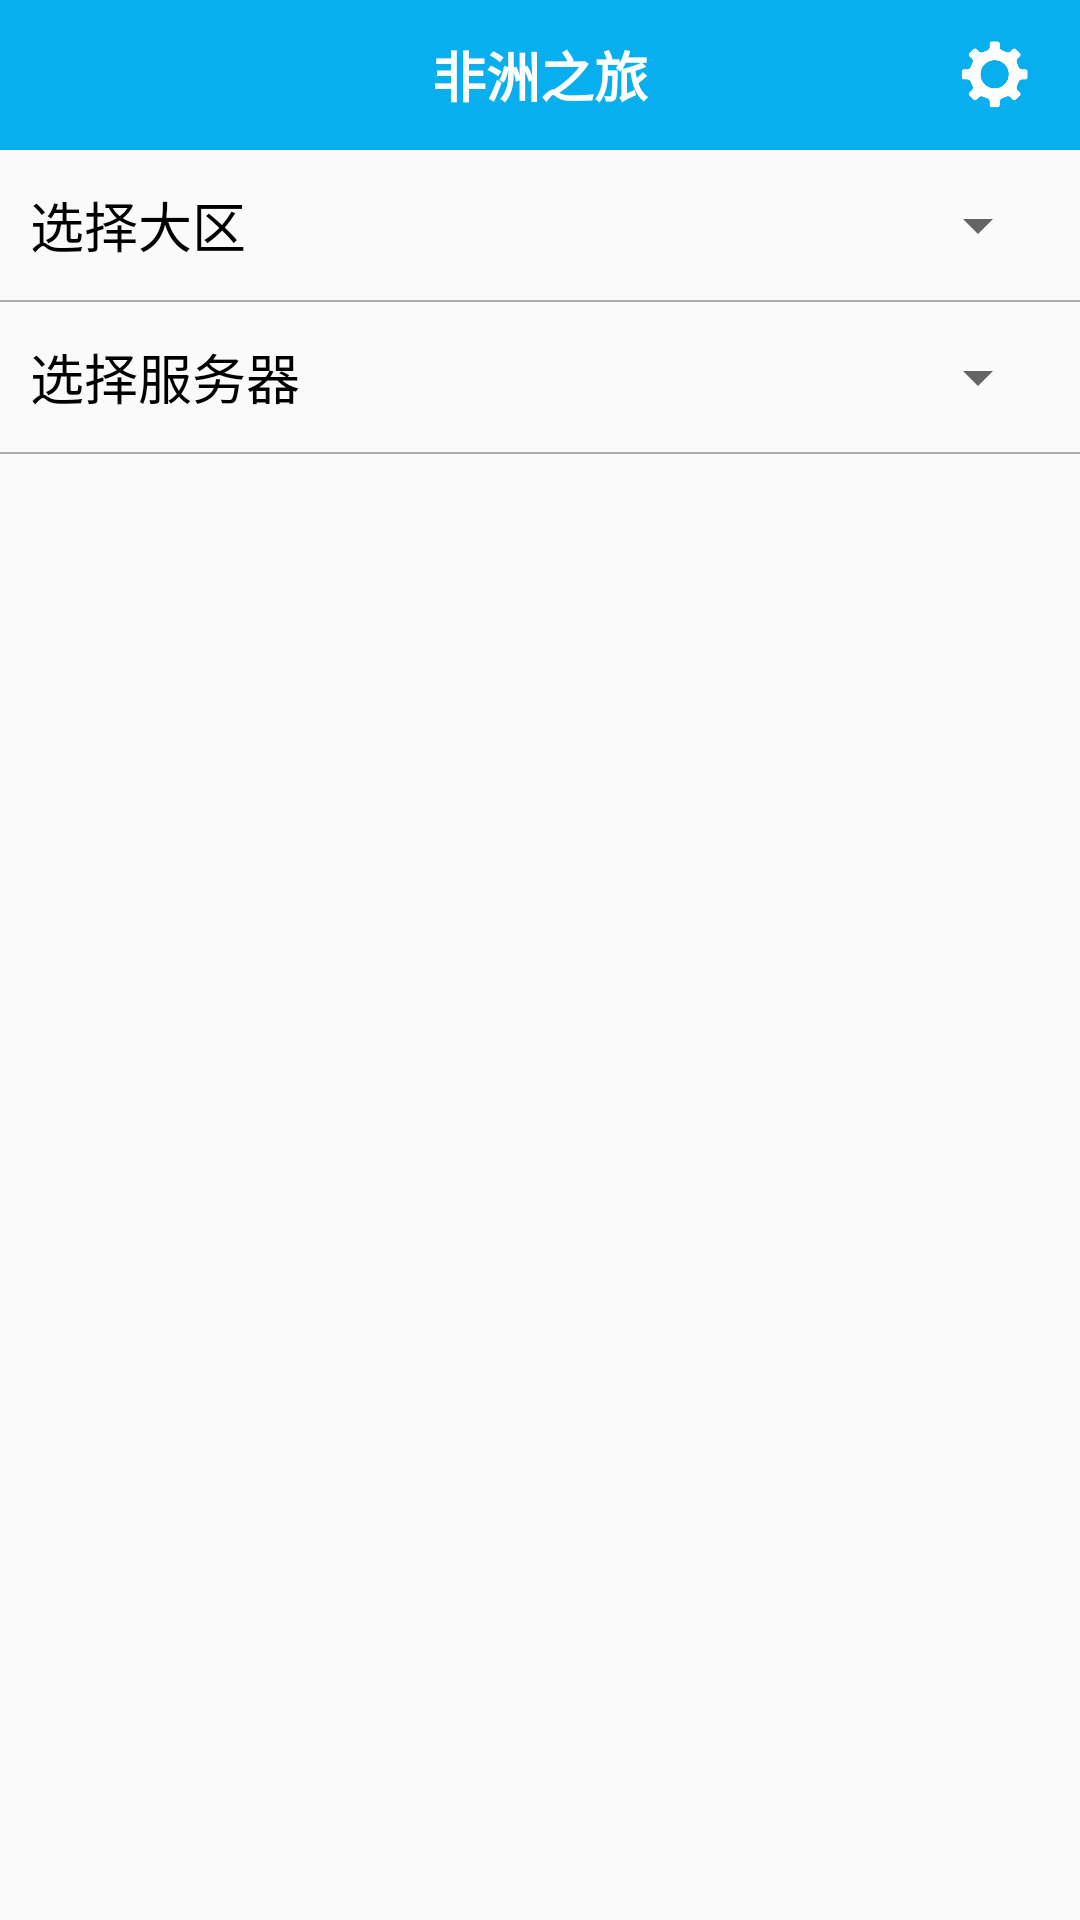

Locate icon controls on the screen. Image size 1080*1920, boxes as bbox=(x1, y1, x2, y2).
setting: bbox=(961, 41, 1028, 108)
